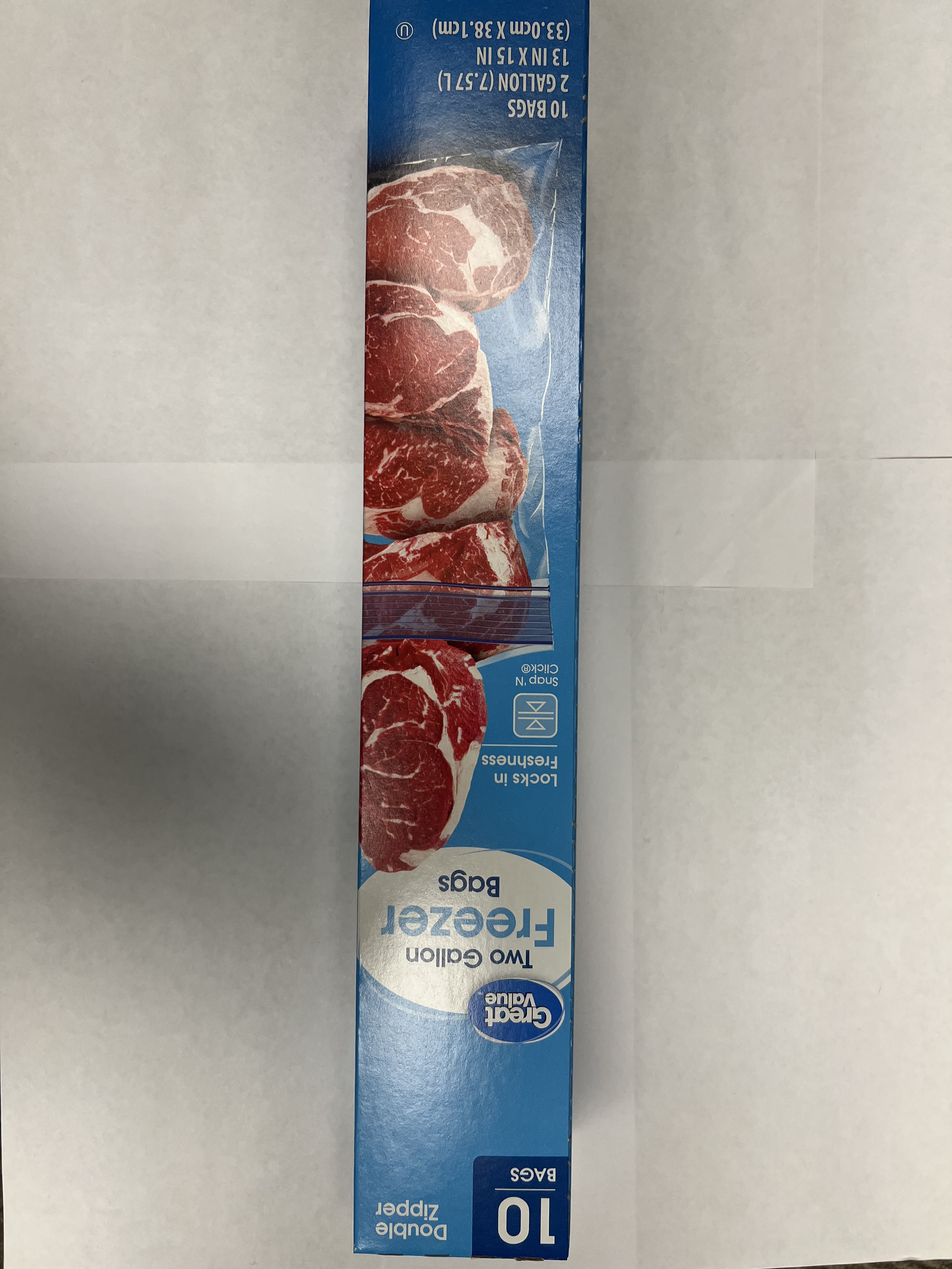packaged: (343, 2, 595, 1263)
